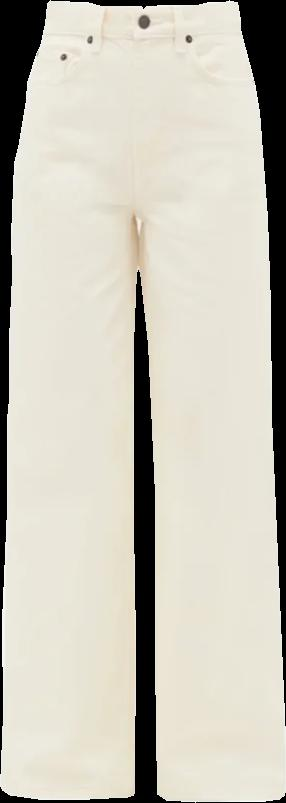Hemline: (0, 780, 141, 802), (155, 788, 285, 802)
Pantleg: (131, 0, 285, 800), (0, 0, 138, 799)
Waistline: (40, 27, 242, 41), (44, 0, 238, 11)
